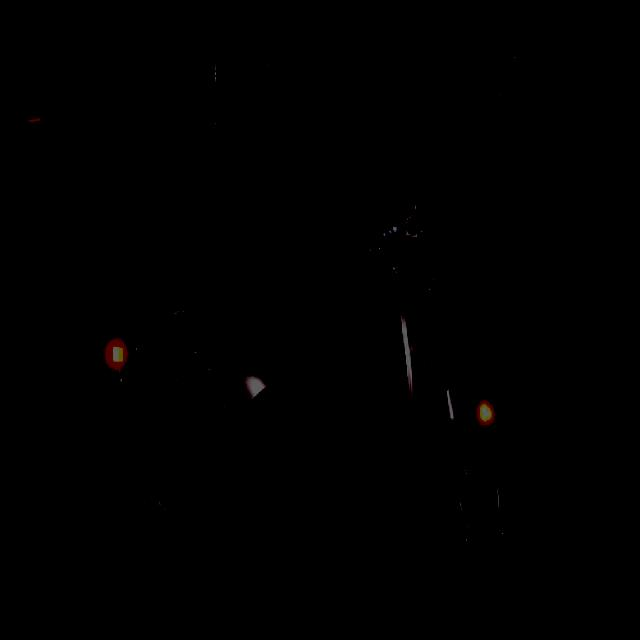Motorbike: (102, 147, 522, 582)
